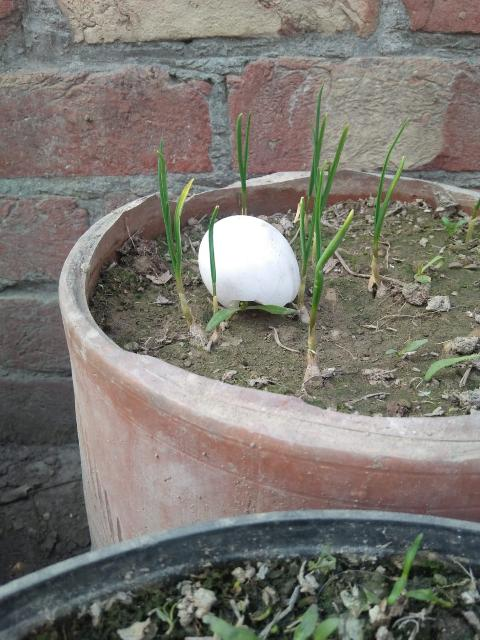Roto: (197, 214, 301, 310)
